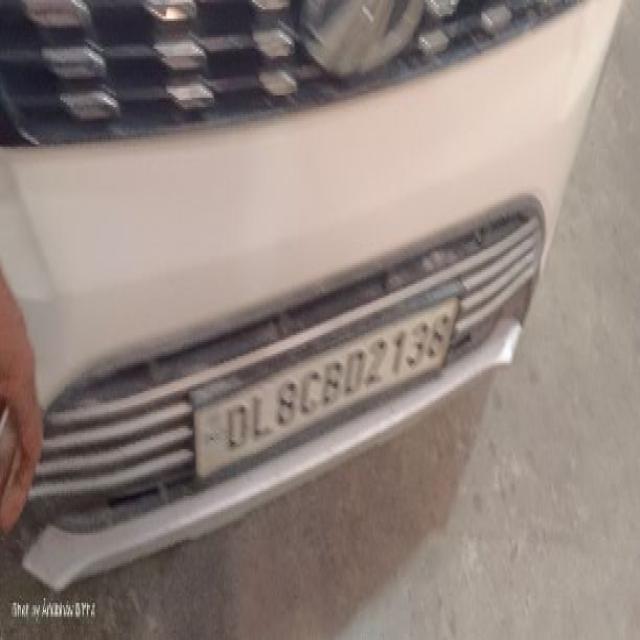license_plate: (0, 0, 624, 591), (190, 291, 462, 482)
